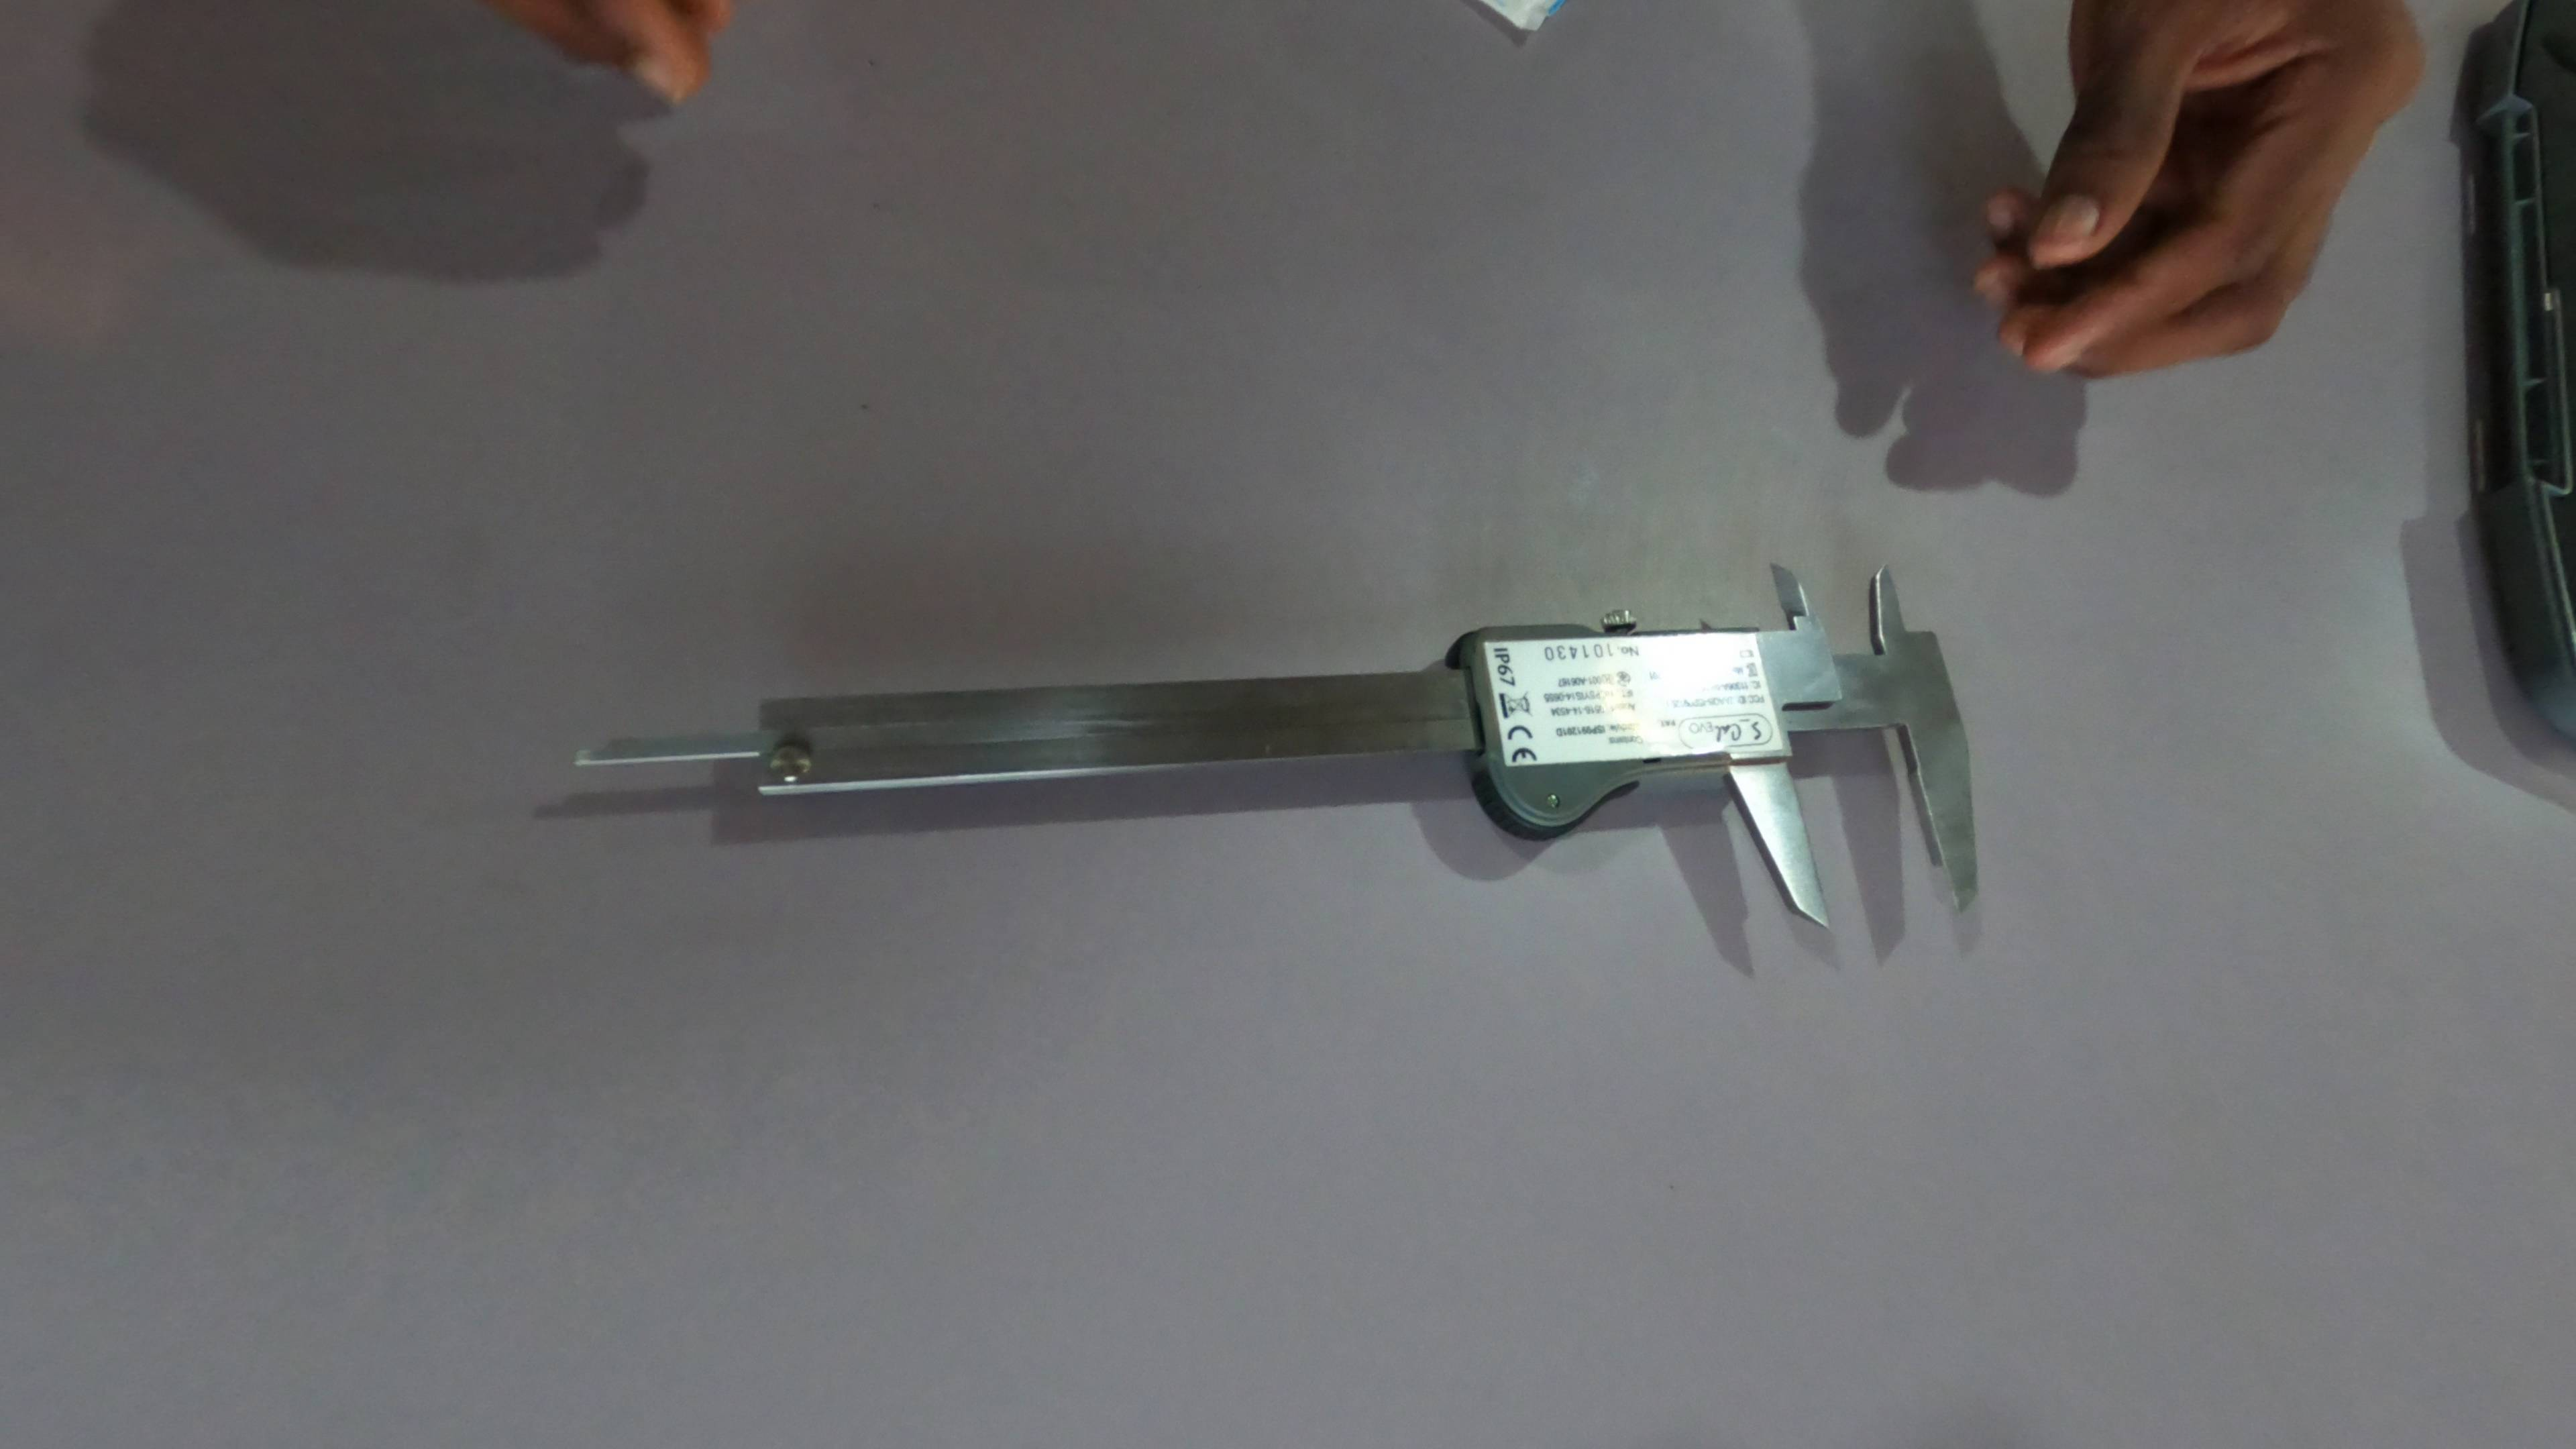vernier_caliper: (556, 557, 1978, 932)
